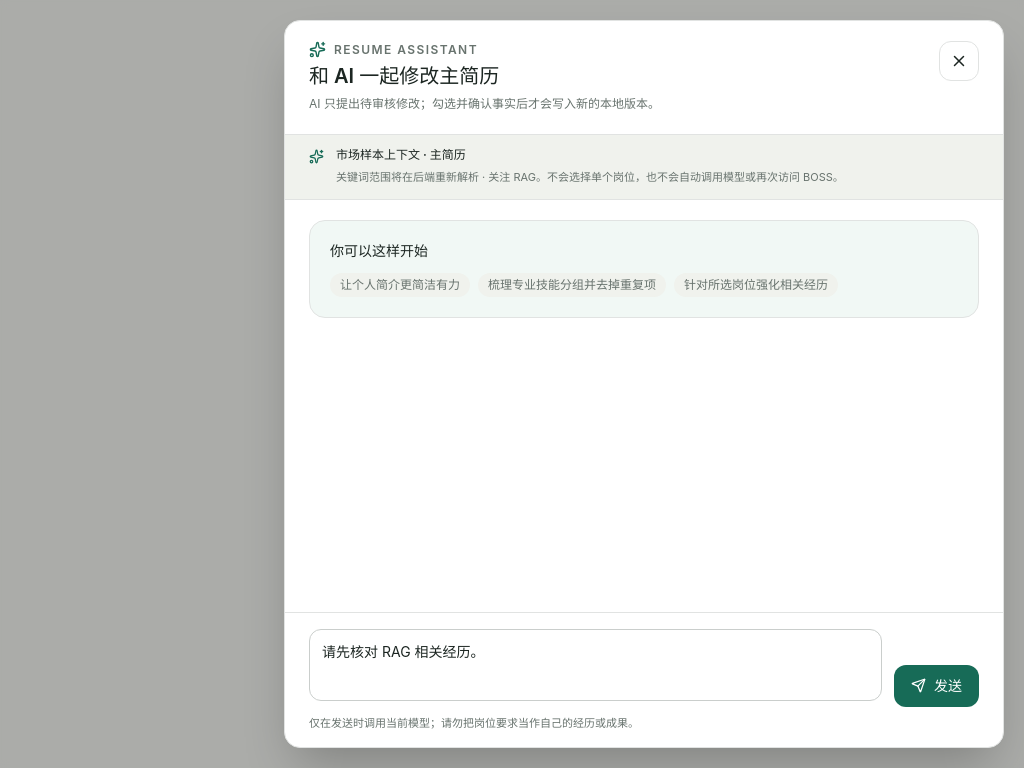
Test: ResumeChatDialog › shows a server-resolved market context, hides job selection, and waits for explicit send
Expected: the text "市场样本上下文 · 主简历" is shown, [336,147,466,162]
Expected: the text box named "发送给简历 AI 的消息" holds "请先核对 RAG 相关经历。", [309,628,882,700]
Click the button "发送": (936, 686) [894,664,979,706]
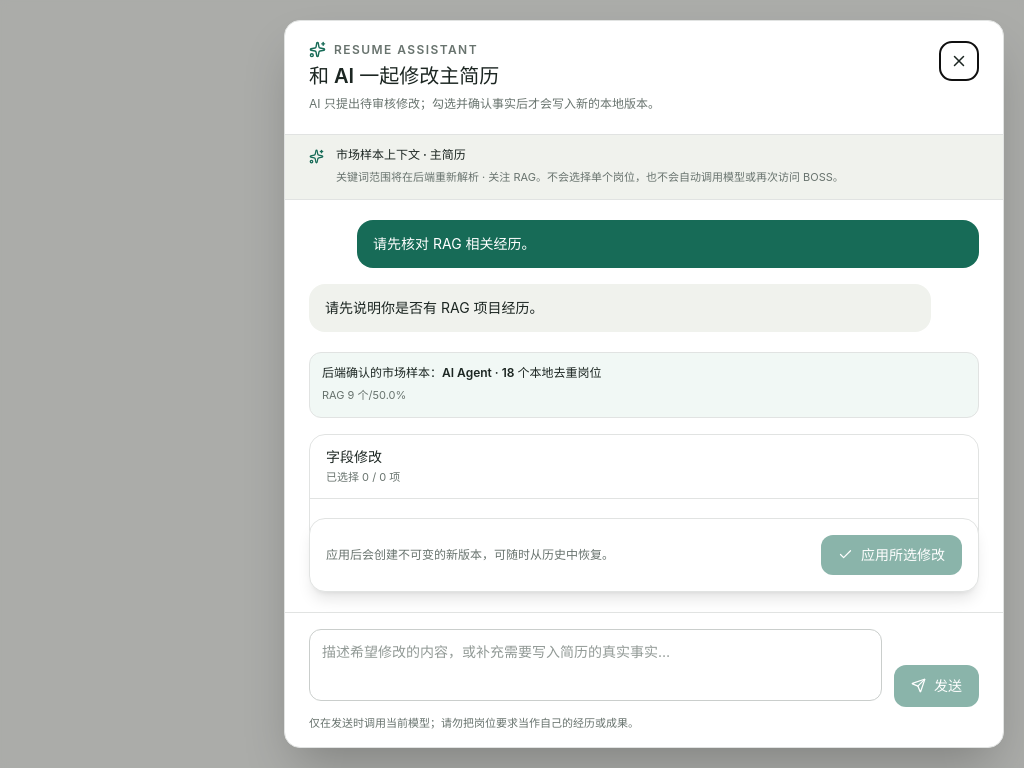
Expected: the text "后端确认的市场样本：AI Agent · 18 个本地去重岗位" is shown, [322,365,602,380]
Expected: the text "请先说明你是否有 RAG 项目经历。" is shown, [325,299,544,316]
